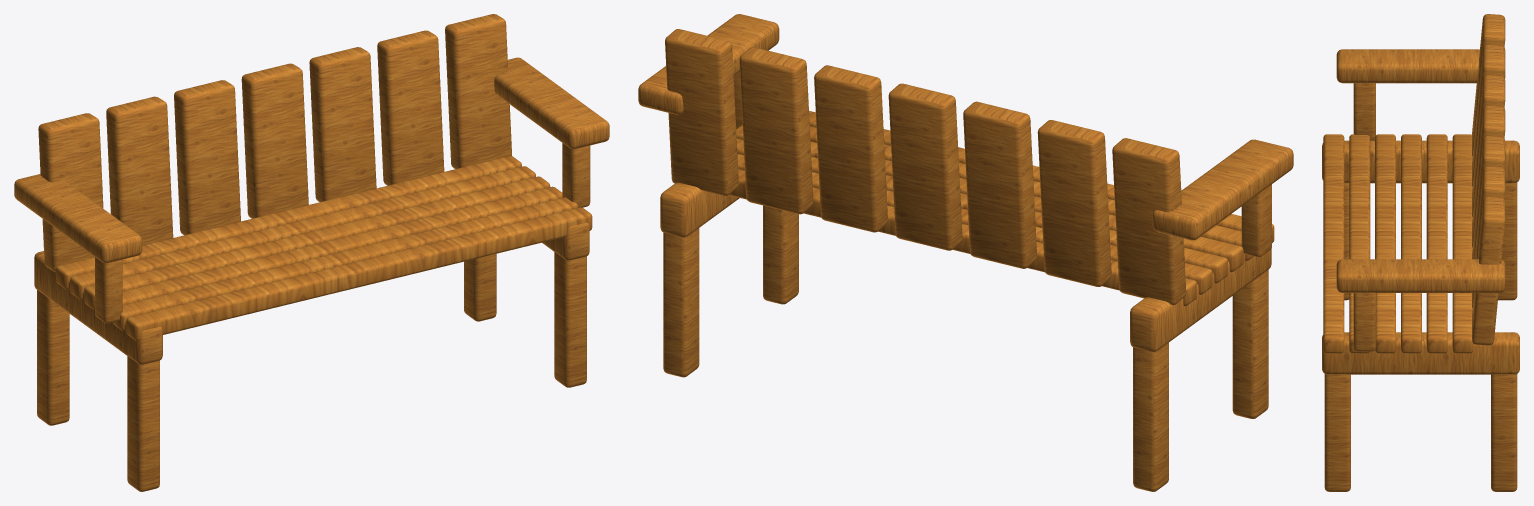
The model's file is garden-bench.glb.
The picture shows the model from 3 angles, left to right: view 1: azimuth 30°, elevation 25°; view 2: azimuth 150°, elevation 25°; view 3: azimuth 270°, elevation 25°; orthographic projection. The views are drawn at different scales.
Parts seen in each view (by area): view 1: garden-bench; view 2: garden-bench; view 3: garden-bench.
Boxes of the visible parts, x1,y1,x2,y2 form: garden-bench: (14, 14, 609, 491); garden-bench: (638, 14, 1293, 491); garden-bench: (1322, 14, 1519, 491).
Size of the model in its own units: 1.5 by 0.85 by 0.55.
1 material, 1 textured.
